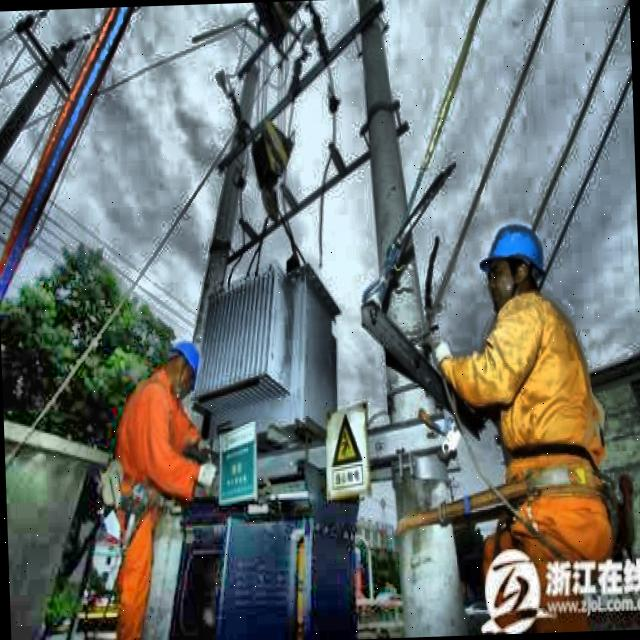helmet: (474, 215, 550, 318), (164, 333, 205, 400)
